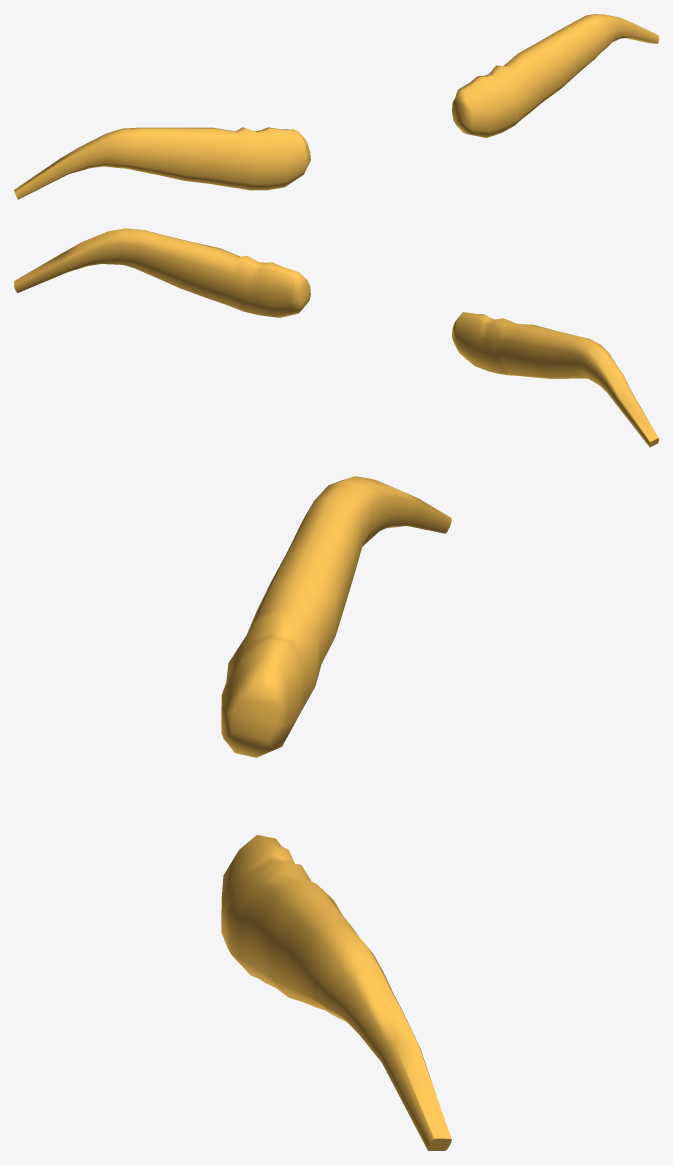
Rendered from Eyebrows_09_05.fbx.
3 renders of one model, top to bottom at view 1: azimuth 30°, elevation 25°; view 2: azimuth 150°, elevation 25°; view 3: azimuth 270°, elevation 25°, orthographic. The views are drawn at different scales.
Parts seen in each view (by area): view 1: Eyebrows_09_05; view 2: Eyebrows_09_05; view 3: Eyebrows_09_05.
Boxes of the visible parts, left/top/right/bottom form: Eyebrows_09_05: left=14, top=14, right=658, bottom=199; Eyebrows_09_05: left=14, top=228, right=658, bottom=447; Eyebrows_09_05: left=221, top=476, right=451, bottom=1150.
Bounding box in the file's own units: 19.2 × 2.07 × 2.98.
